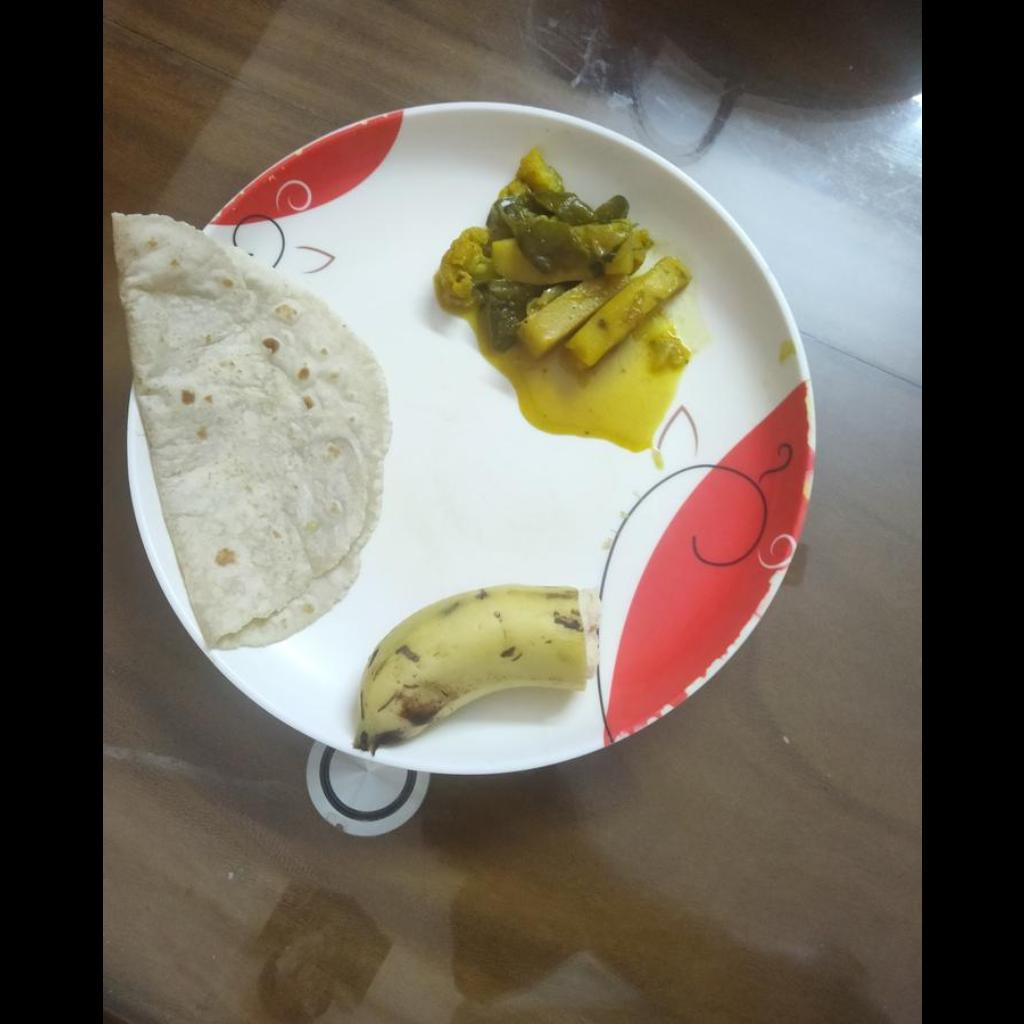banana: (353, 582, 599, 750)
ruti: (116, 216, 387, 649)
vegetable: (428, 145, 686, 370)
